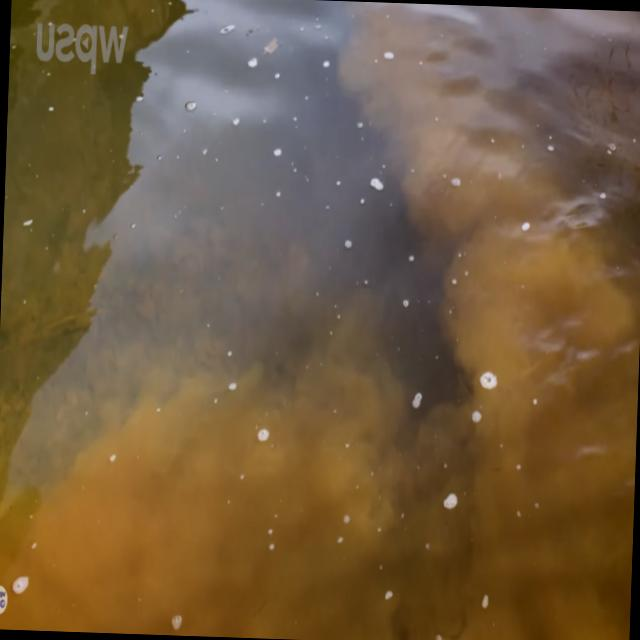yellow_boy: (7, 2, 640, 640)
